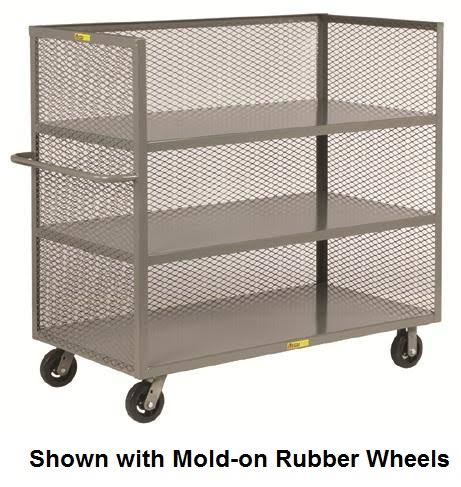Carts: (20, 11, 447, 424)
